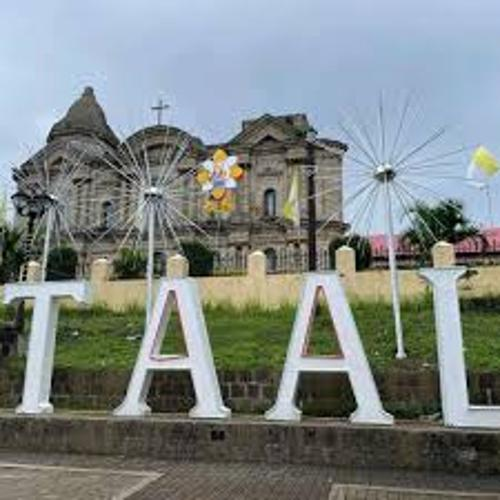Taal Basilica Church: (24, 86, 363, 287)
